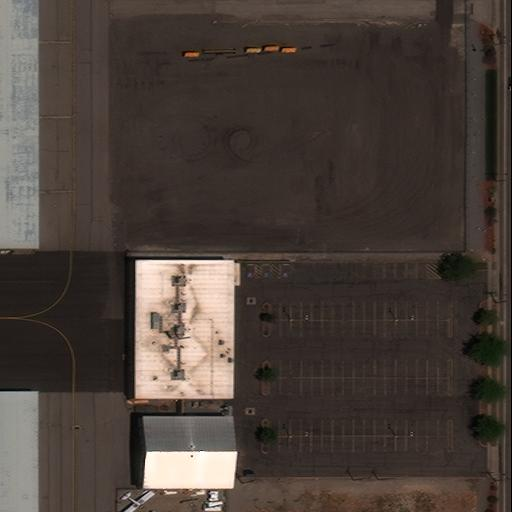Small Civil Transport: (124, 493, 155, 511)
